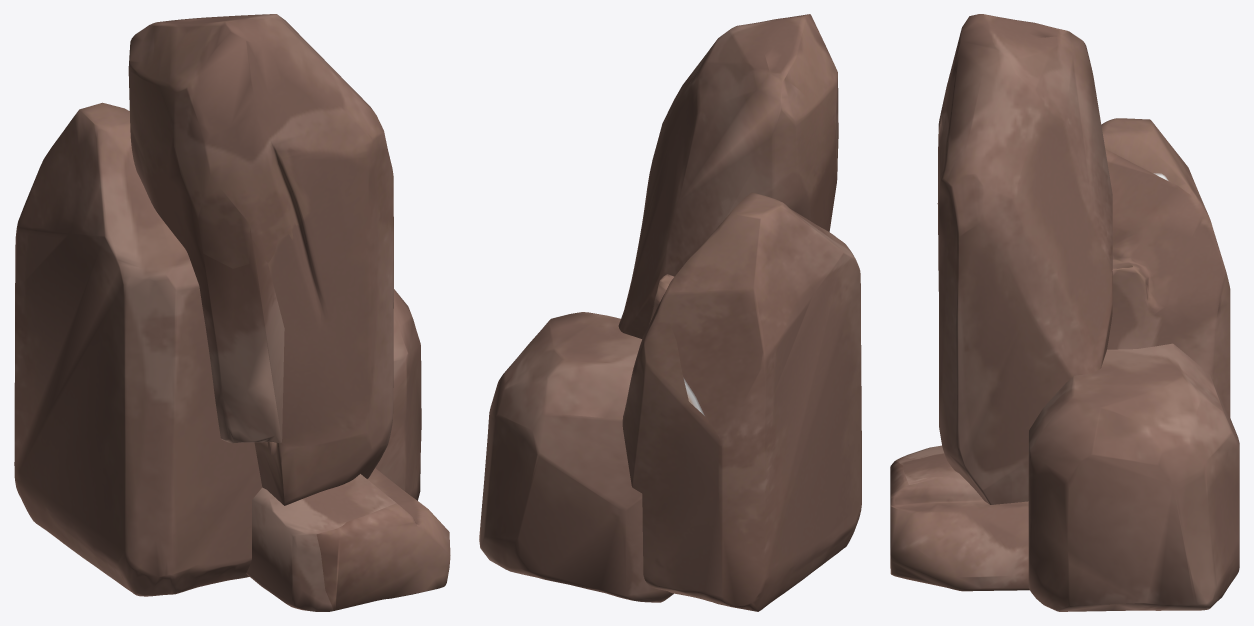
Rendered from Rock_3.FBX.
The picture shows the model from 3 angles, left to right: view 1: azimuth 30°, elevation 25°; view 2: azimuth 150°, elevation 25°; view 3: azimuth 270°, elevation 25°; orthographic projection. The views are drawn at different scales.
Visible parts, largest first — view 1: Group30844; view 2: Group30844; view 3: Group30844.
Boxes of the visible parts, bbox=[...] form: Group30844: bbox=[14, 14, 450, 611]; Group30844: bbox=[479, 14, 861, 611]; Group30844: bbox=[890, 14, 1239, 611].
Bounding box in the file's own units: 838 × 1410 × 890.
